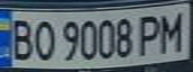0: (78, 17, 100, 62), (97, 16, 118, 61)
8: (112, 15, 139, 58)
9: (57, 17, 81, 62)
B: (3, 15, 36, 62)
M: (154, 8, 190, 53)
O: (30, 16, 57, 62)
P: (136, 11, 166, 56)
